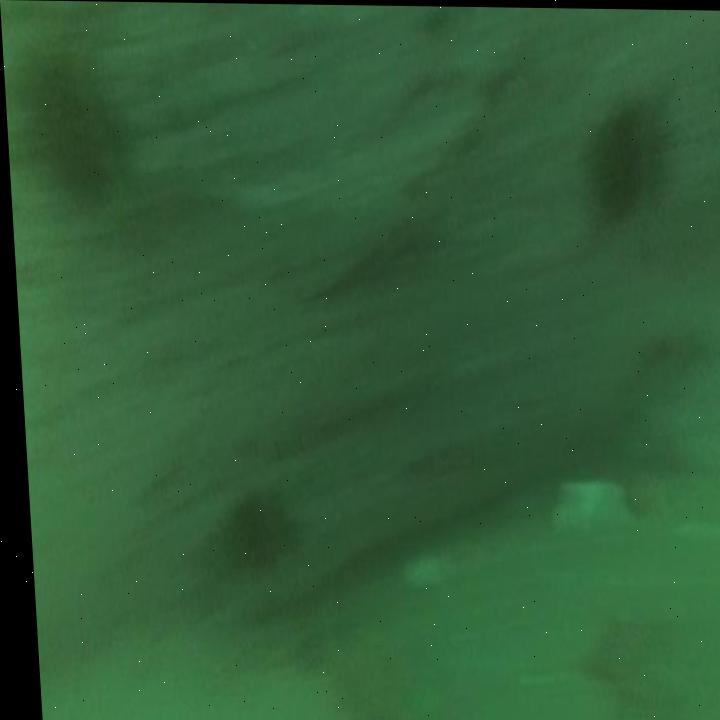echinus: (18, 48, 131, 223), (571, 80, 678, 241), (213, 482, 295, 581)
